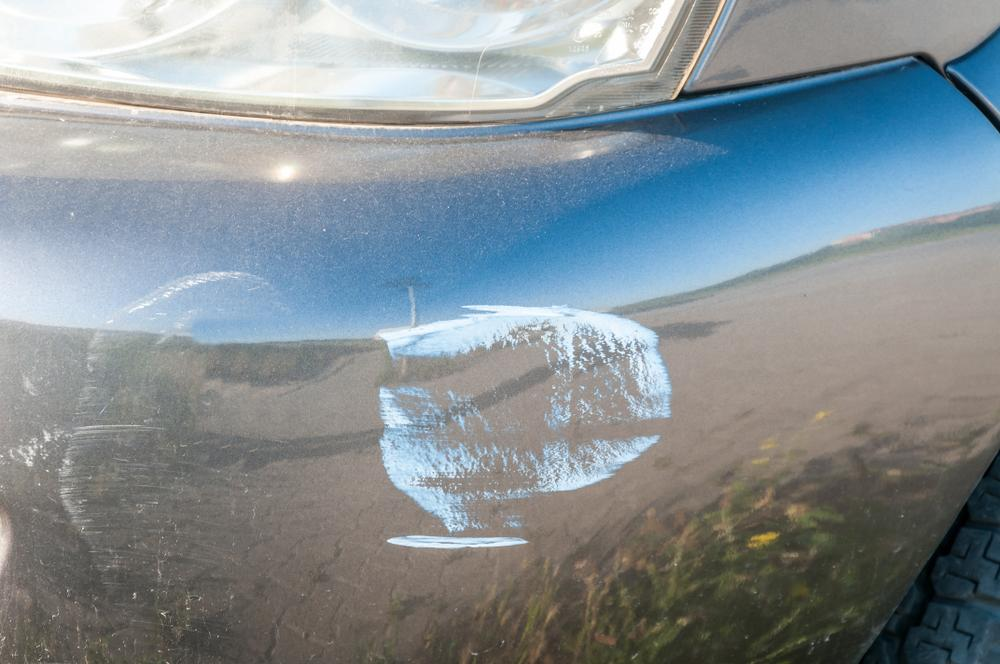scratch: (370, 295, 683, 557), (56, 267, 281, 566)
